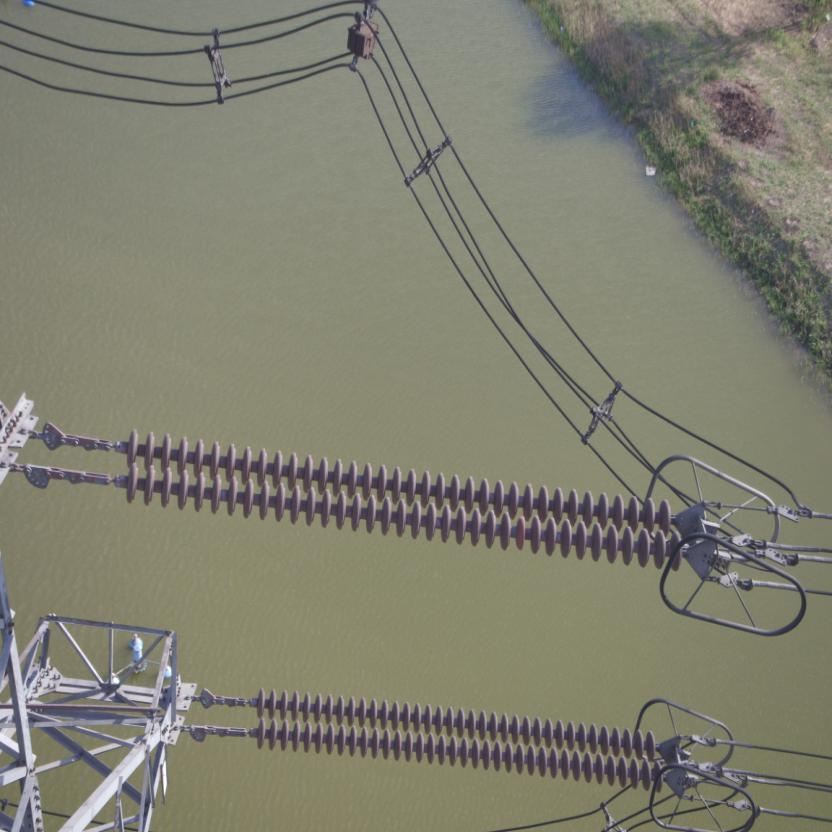insulator: (82, 424, 696, 571), (232, 684, 674, 792)
